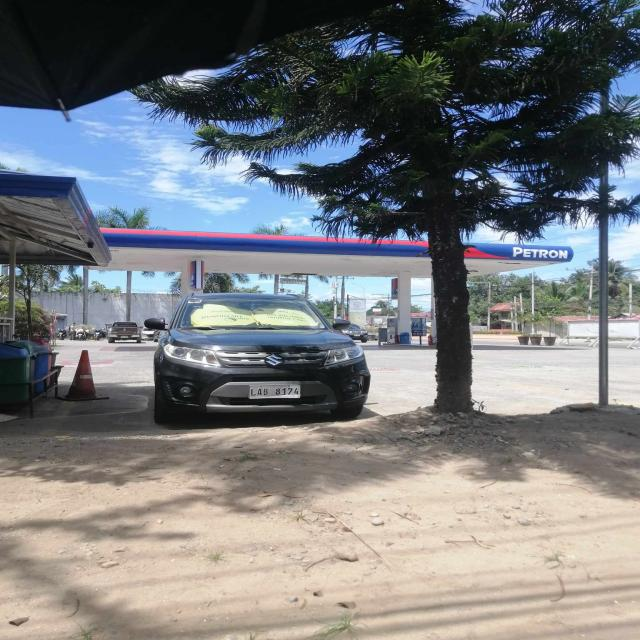license-plate: (247, 384, 301, 399)
